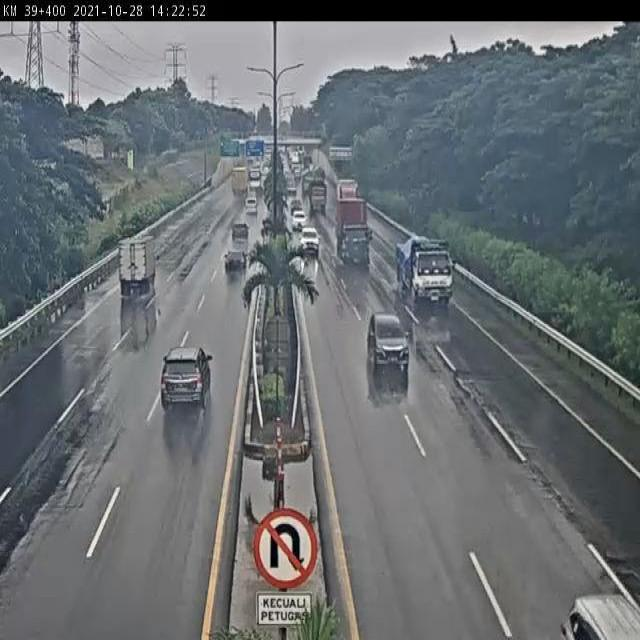big truck: (397, 235, 455, 304), (335, 198, 374, 266)
car: (119, 233, 161, 295), (159, 345, 203, 391), (370, 313, 398, 379), (300, 225, 320, 255), (226, 248, 248, 271)
